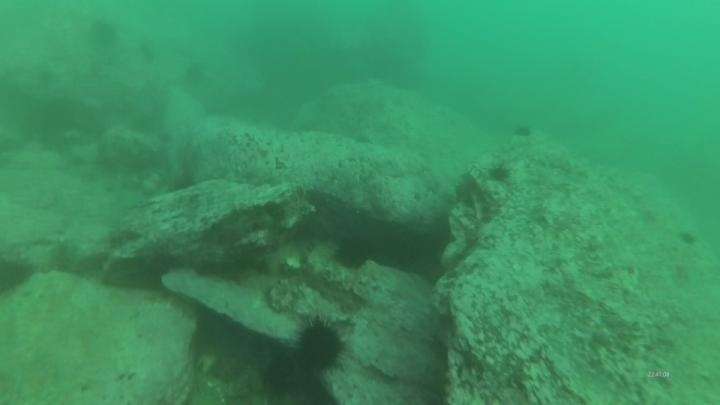echinus: (259, 345, 314, 402), (294, 316, 348, 373), (332, 233, 376, 271), (0, 254, 35, 297), (85, 17, 120, 50), (486, 161, 513, 185), (511, 121, 534, 140)
